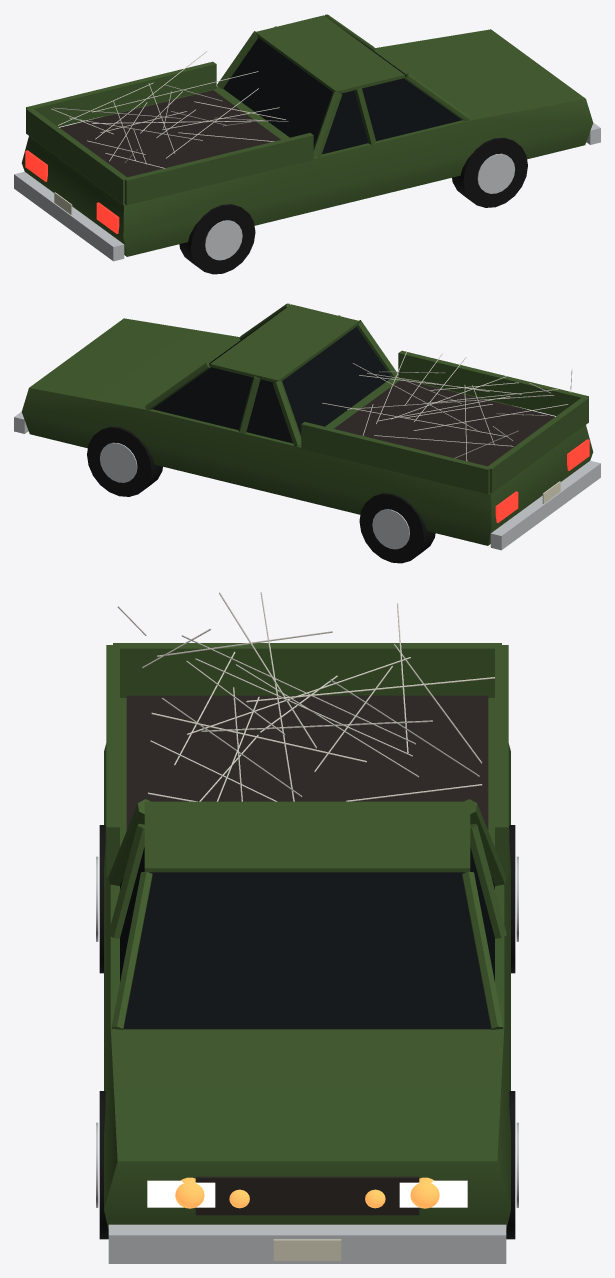
Rendered from SM_80s_Car_WebPickup.glb.
The picture shows the model from 3 angles, top to bottom: view 1: azimuth 30°, elevation 25°; view 2: azimuth 150°, elevation 25°; view 3: azimuth 270°, elevation 25°; orthographic projection. The views are drawn at different scales.
Visible parts, largest first — view 1: SM_80s_Car_WebPickup; view 2: SM_80s_Car_WebPickup; view 3: SM_80s_Car_WebPickup.
Part boxes in pixels (<box>): SM_80s_Car_WebPickup: <box>14,14,600,274</box>; SM_80s_Car_WebPickup: <box>14,303,600,563</box>; SM_80s_Car_WebPickup: <box>96,592,518,1263</box>.
Bounding box in the file's own units: 5 × 1.4 × 1.87.
